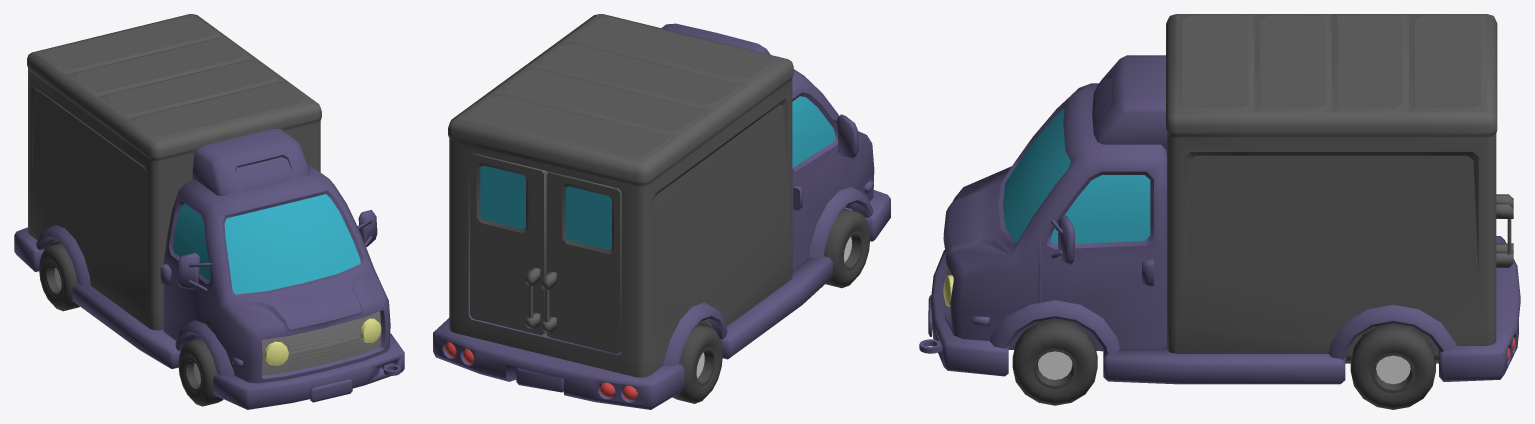
Rendered from kamyon.fbx.
3 views of the same model, side by side, from view 1: azimuth 30°, elevation 25°; view 2: azimuth 150°, elevation 25°; view 3: azimuth 270°, elevation 25° (orthographic). The views are drawn at different scales.
Parts seen in each view (by area): view 1: kamyon, teker2, teker4; view 2: kamyon, kapi2, kapi1, teker2, teker4; view 3: kamyon, teker3, teker.006, kapi1.
Part boxes in pixels (bbox=[...]): kamyon: bbox=[14, 14, 404, 409]; teker2: bbox=[178, 338, 223, 406]; teker4: bbox=[39, 243, 79, 311]; kamyon: bbox=[433, 14, 890, 409]; kapi2: bbox=[542, 172, 621, 353]; kapi1: bbox=[470, 153, 547, 335]; teker2: bbox=[824, 208, 870, 288]; teker4: bbox=[672, 324, 722, 403]; kamyon: bbox=[919, 14, 1520, 384]; teker3: bbox=[1350, 323, 1435, 409]; teker.006: bbox=[1012, 319, 1097, 405]; kapi1: bbox=[1496, 203, 1513, 267].
Size of the model in its own units: 274 by 300 by 564.
